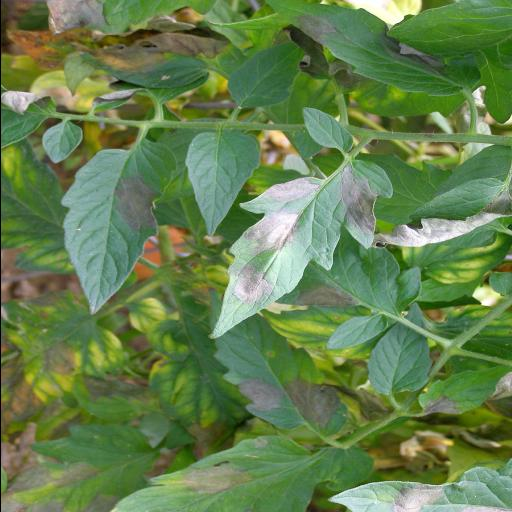Healthy: (182, 132, 260, 238), (368, 304, 430, 396), (224, 41, 304, 110), (304, 108, 356, 150)
Late Blight: (218, 152, 394, 336), (58, 133, 180, 319), (108, 431, 376, 512), (260, 0, 478, 96), (215, 304, 350, 436), (8, 16, 230, 90), (328, 465, 512, 512), (410, 364, 506, 420)
